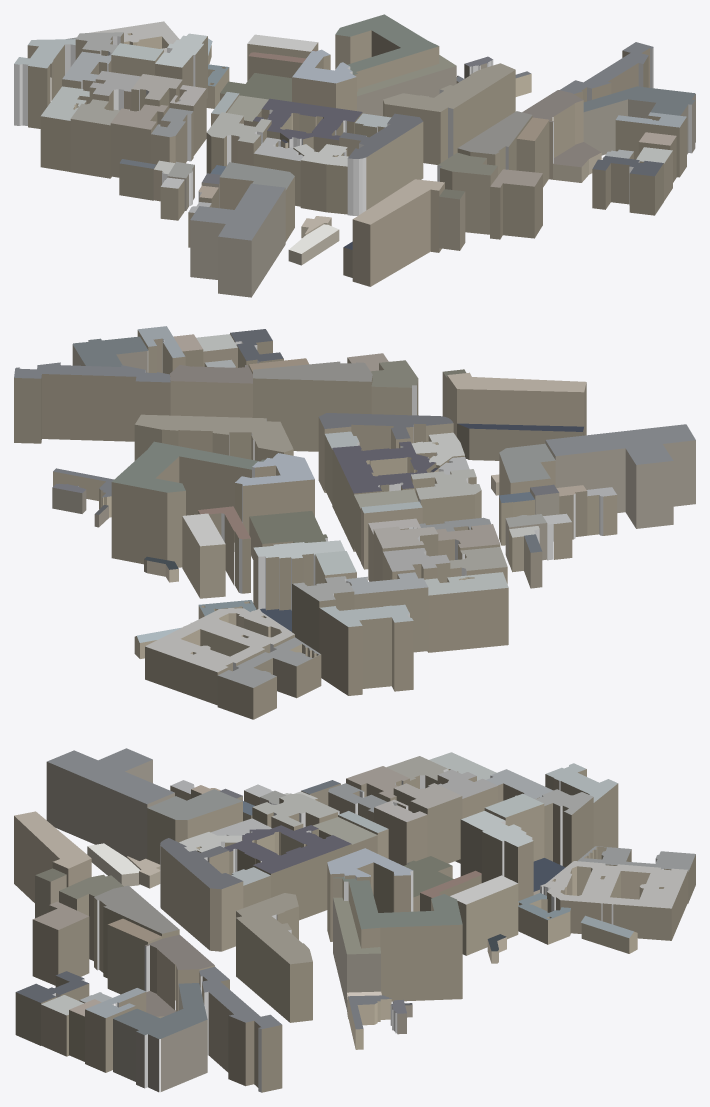
The picture shows the model from 3 angles, top to bottom: view 1: azimuth 30°, elevation 25°; view 2: azimuth 150°, elevation 25°; view 3: azimuth 270°, elevation 25°; orthographic projection. The views are drawn at different scales.
Visible parts, largest first — view 1: tuile; view 2: tuile; view 3: tuile.
Boxes of the visible parts, left/top/right/bottom form: tuile: left=14, top=14, right=695, bottom=297; tuile: left=14, top=326, right=695, bottom=719; tuile: left=14, top=748, right=695, bottom=1092.
Bounding box in the file's own units: 280 × 40.93 × 287.
